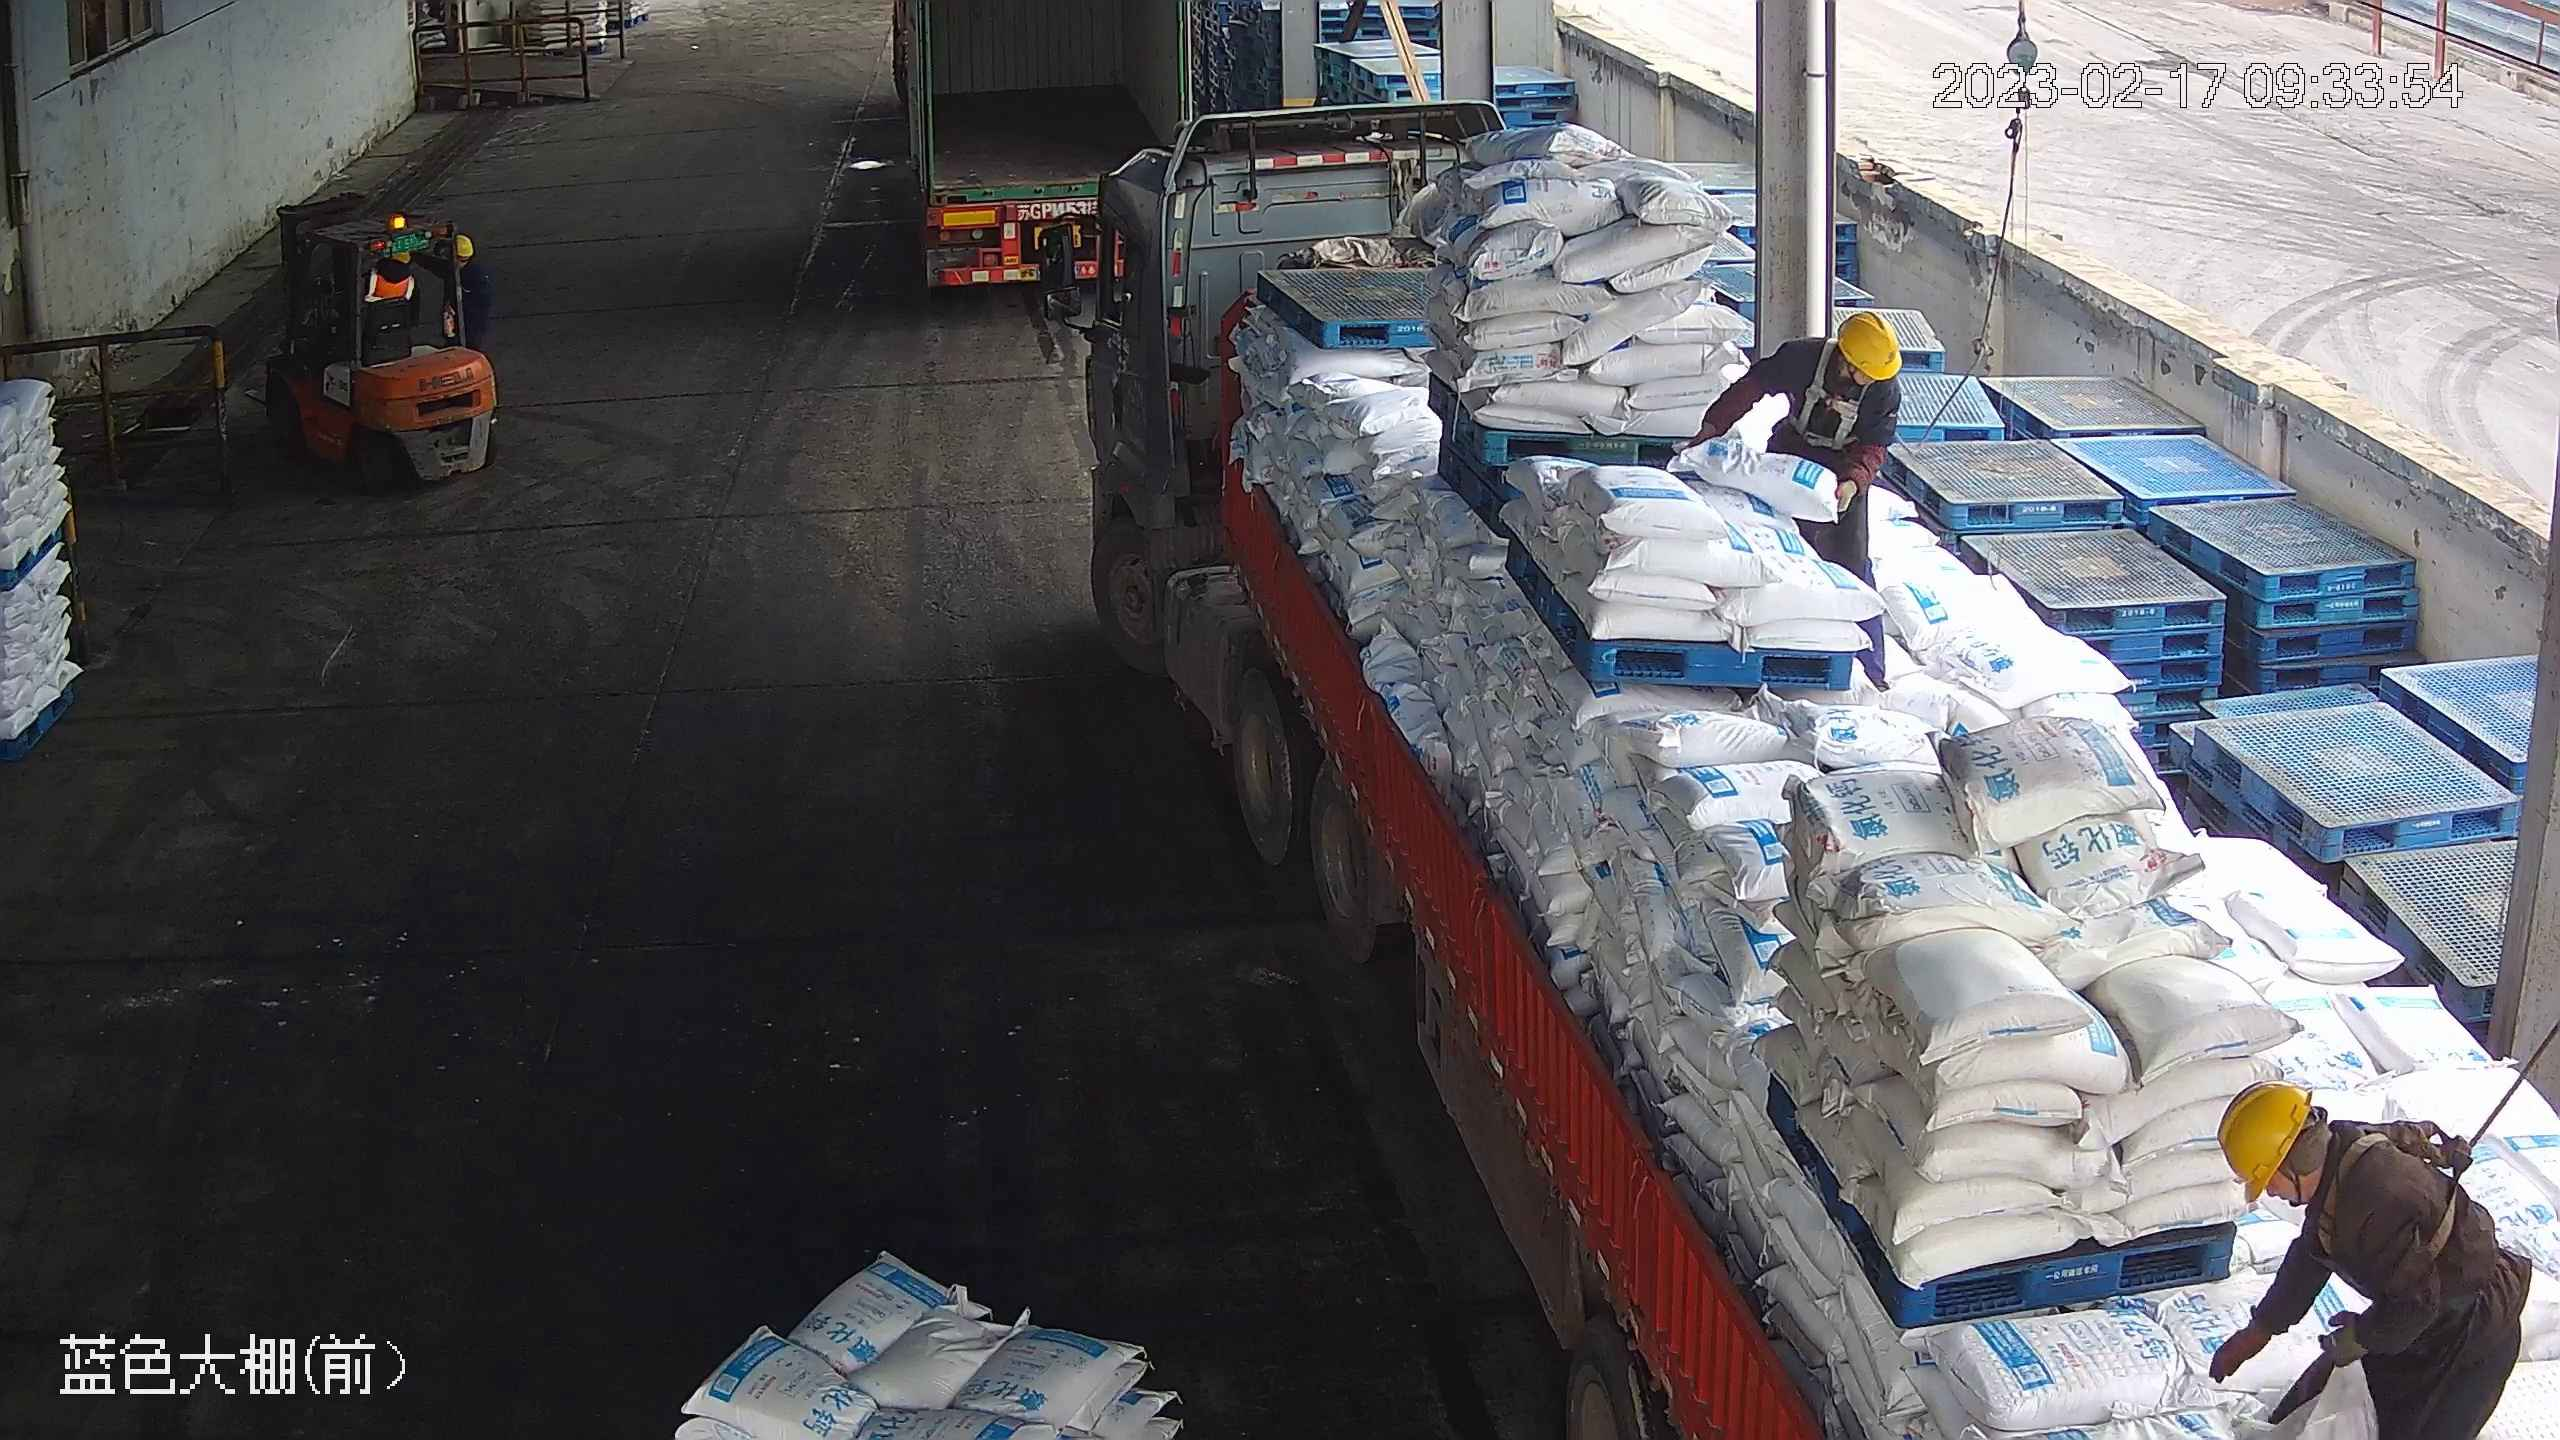belt: (2313, 1107, 2483, 1281), (1795, 349, 1868, 444)
head: (2210, 1076, 2442, 1256), (1776, 310, 1901, 422)
helmet: (2214, 1078, 2317, 1206), (1835, 308, 1902, 382)
people: (2201, 1076, 2530, 1436), (1680, 306, 1908, 672)
truck: (1044, 92, 2558, 1440), (883, 1, 1195, 295)
